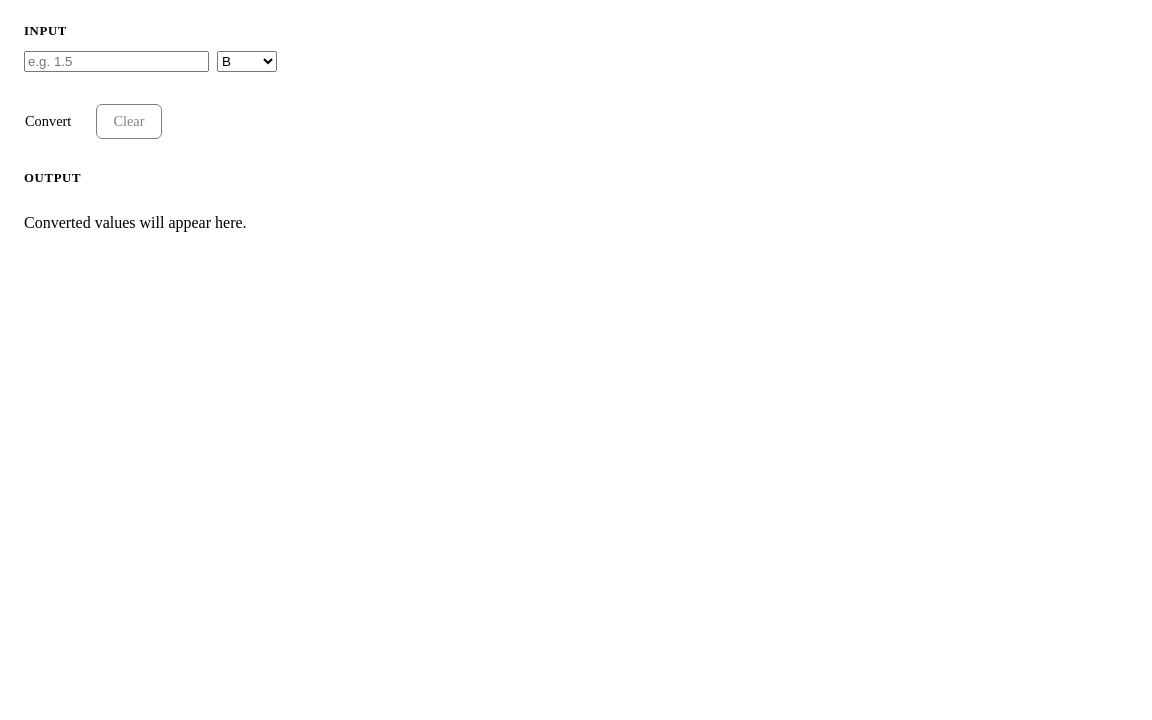
Test: ByteSizeConverterTool › converts a value in the selected unit
The width and height of the screenshot is (1152, 720).
Type "1024" into the field named "Byte value" at (116, 62), box [24,51,209,72]
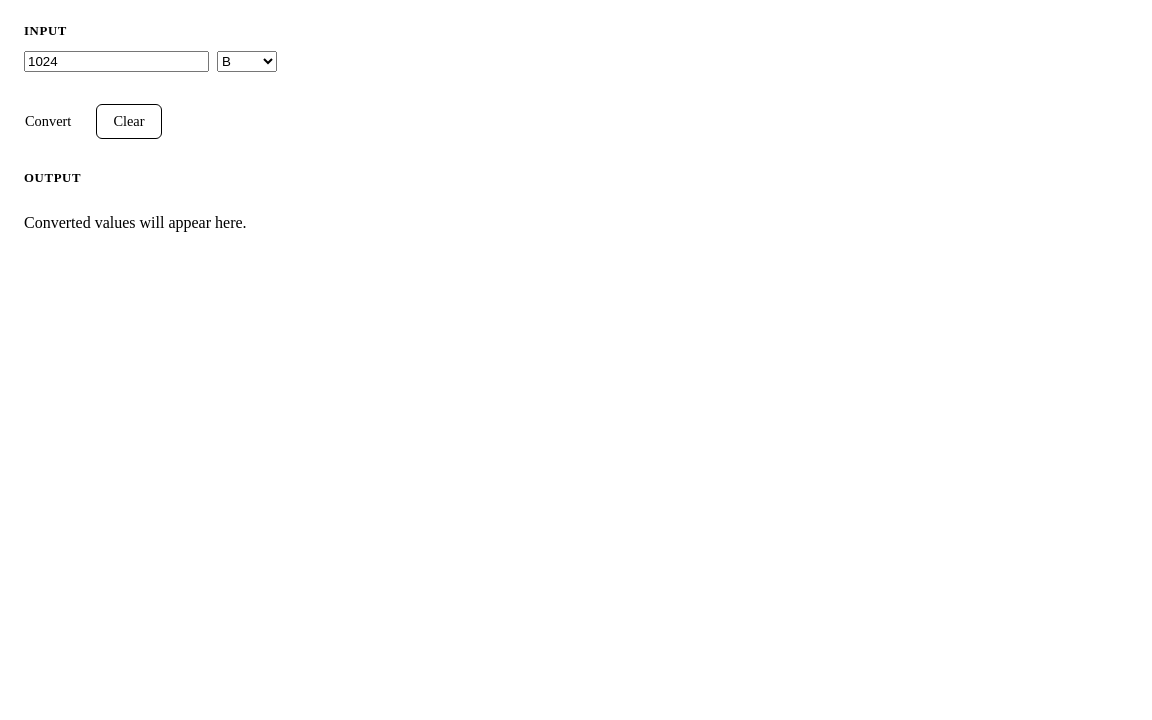
Select "B" in the dropdown named "Byte unit" at (247, 62), box [217,51,277,72]
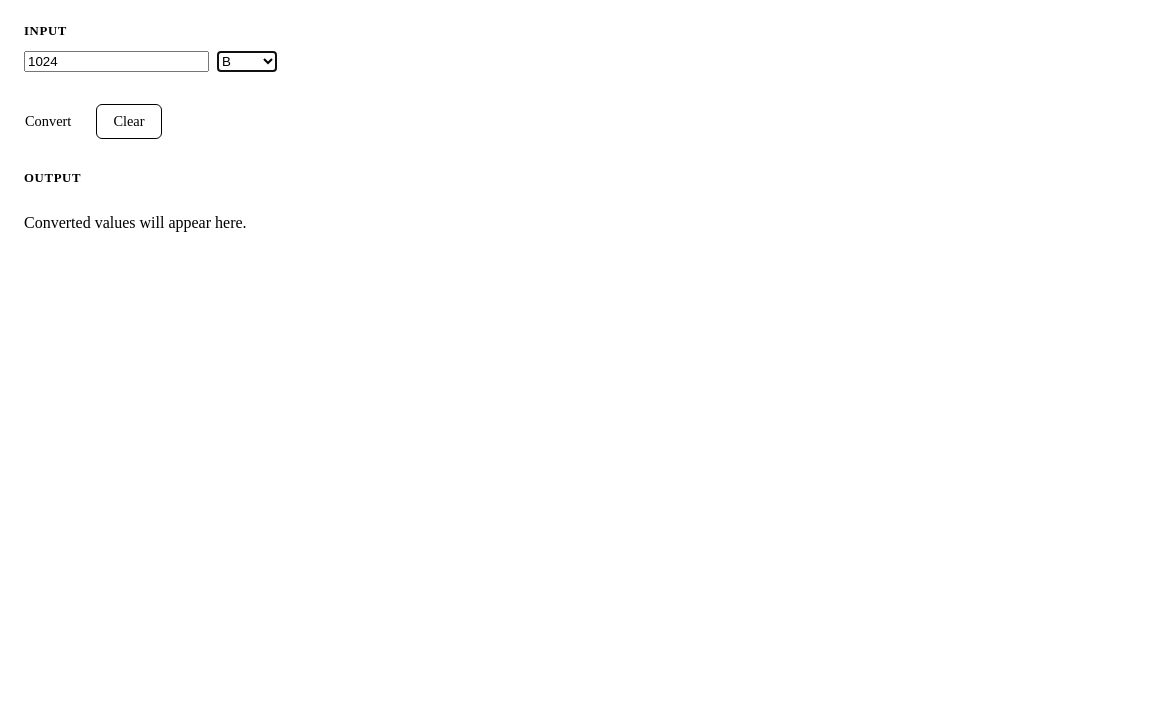
Click the button "Convert" at (48, 122), box [8,104,88,139]
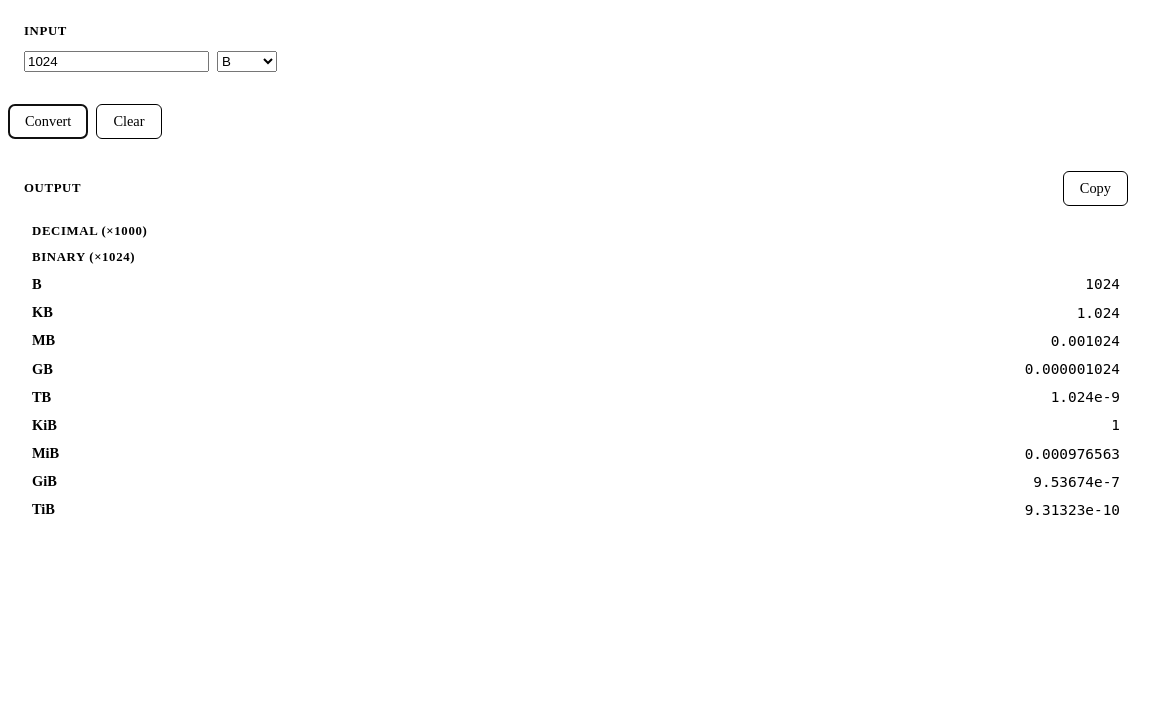
Check: the text "1" is shown, box [333,411,1128,440]
Check: the text "1.024" is shown, box [333,299,1128,327]
Check: the text "1024" is shown, box [333,270,1128,299]
